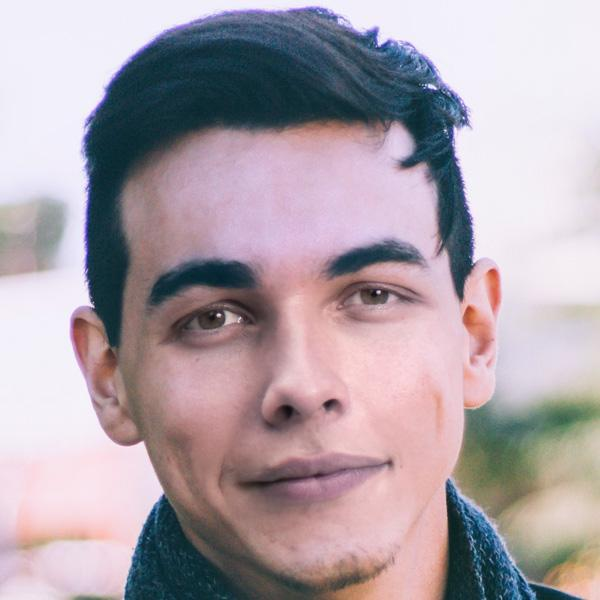Eyes: (158, 287, 266, 354), (322, 269, 431, 331)
